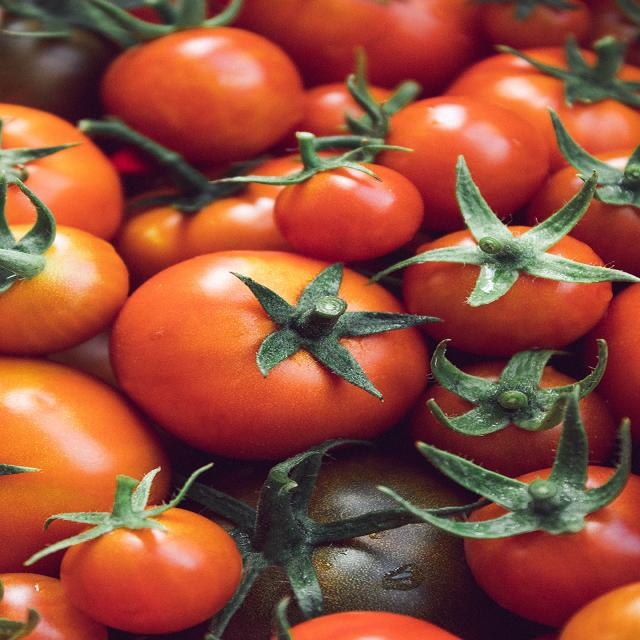Tomato: (83, 242, 415, 438)
